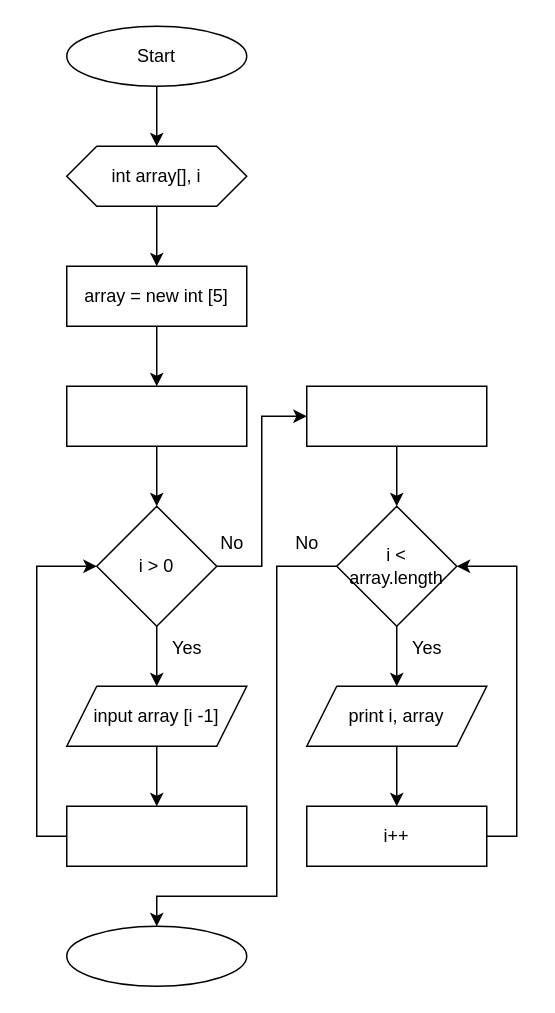
The diagram is 555 pixels wide and 1013 high, and some of its shapes have lost their labels. Each missing label, with the centre of its shape:
i = 0: pixel 396 415
i = array.length: pixel 156 415
i--: pixel 156 835
Stop: pixel 156 955
